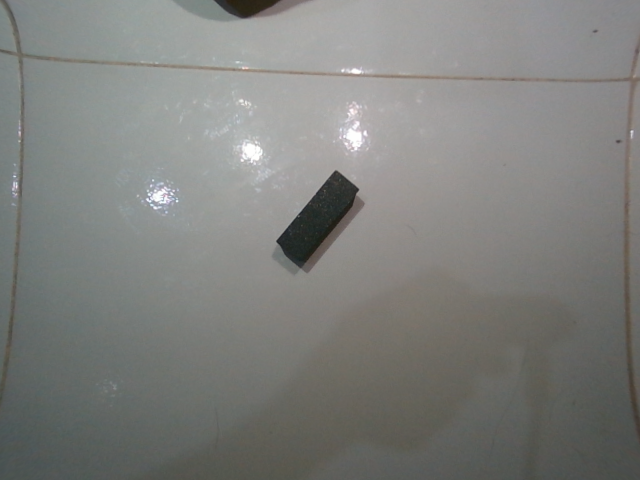Balok-Hitam: (272, 171, 362, 270)
